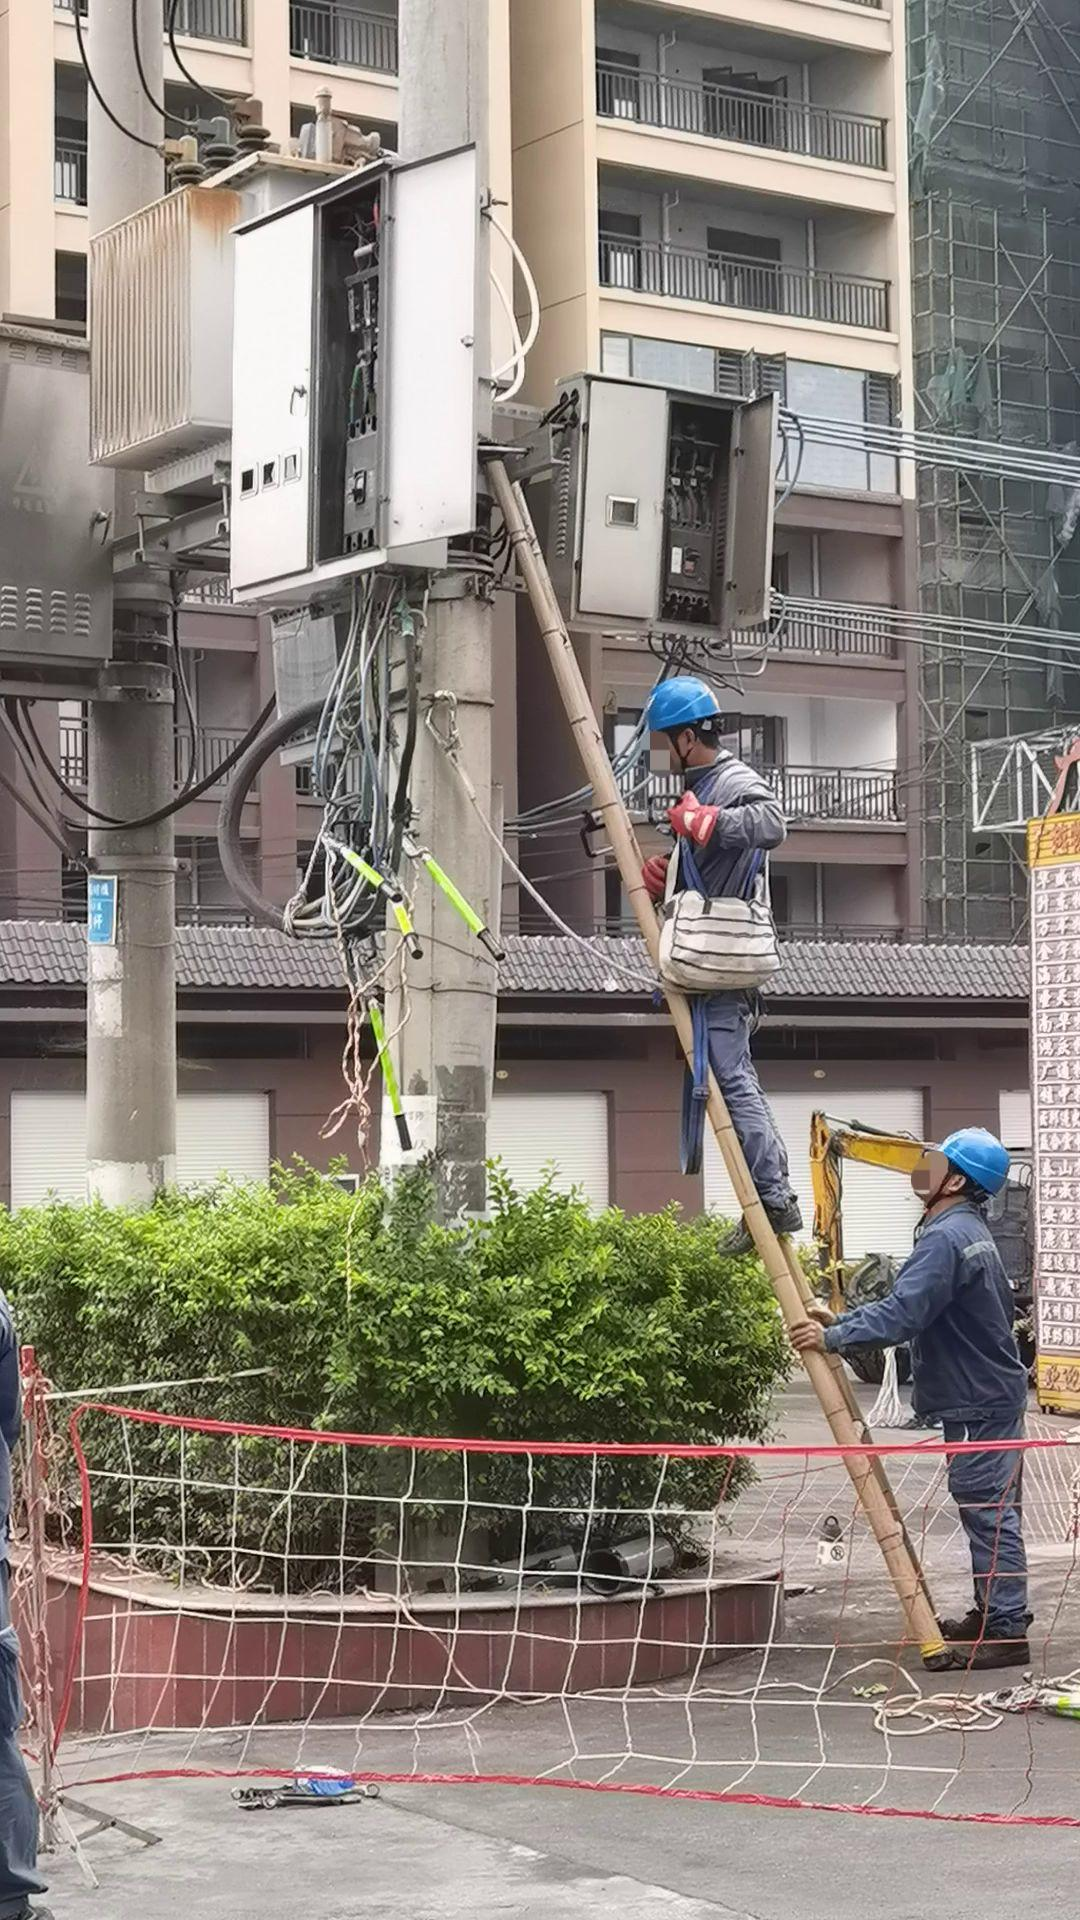halt: (640, 679, 727, 774), (920, 1129, 1013, 1207)
inear: (935, 1164, 969, 1203)
